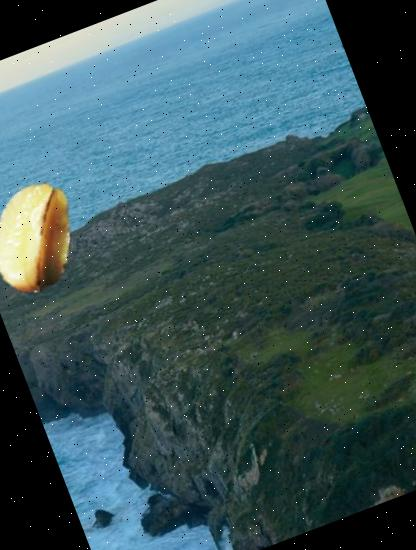Carambula: (0, 165, 103, 307)
